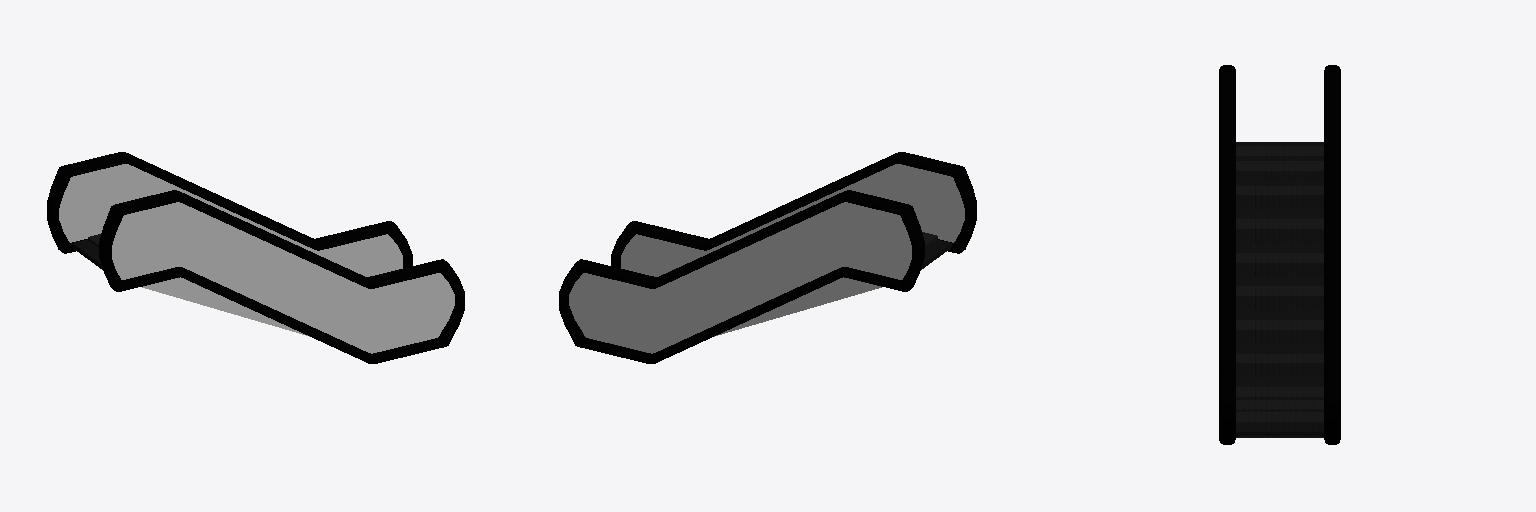
File: escalator.obj
The picture shows the model from 3 angles: view 1: azimuth 30°, elevation 25°; view 2: azimuth 150°, elevation 25°; view 3: azimuth 270°, elevation 25°; orthographic projection.
Parts seen in each view (by area): view 1: Plane.001_Plane.002, Plane_Plane.001; view 2: Plane.001_Plane.002, Plane_Plane.001; view 3: Plane.003_Plane.004, Plane_Plane.001, Plane.002_Plane.003, Plane.004_Plane.010, Plane.005_Plane.011.
Part boxes in pixels (bbox=[...]): Plane.001_Plane.002: bbox=[59, 164, 454, 353]; Plane_Plane.001: bbox=[47, 152, 464, 363]; Plane.001_Plane.002: bbox=[569, 164, 964, 353]; Plane_Plane.001: bbox=[559, 152, 976, 363]; Plane.003_Plane.004: bbox=[1236, 186, 1323, 399]; Plane_Plane.001: bbox=[1219, 65, 1340, 444]; Plane.002_Plane.003: bbox=[1236, 142, 1323, 435]; Plane.004_Plane.010: bbox=[1236, 400, 1323, 437]; Plane.005_Plane.011: bbox=[1236, 146, 1323, 179].
Bounding box in the file's own units: 9.18 × 5.31 × 2.69.